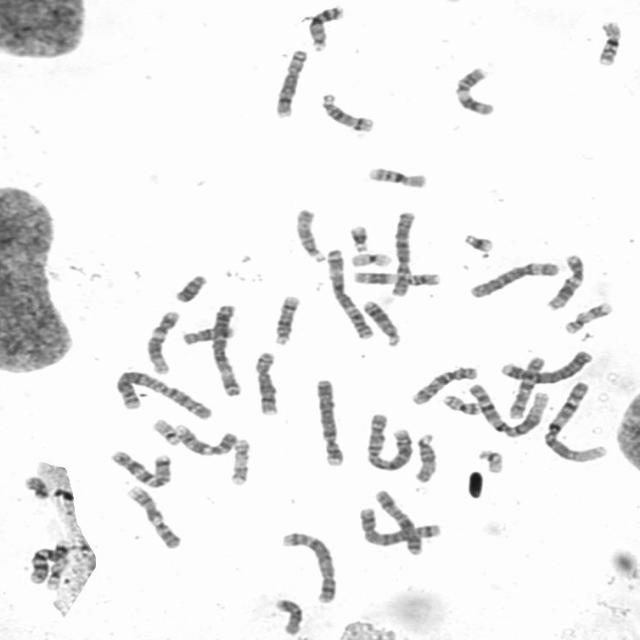A1: (540, 380, 608, 463), (466, 381, 551, 438)
A2: (110, 367, 215, 422), (363, 409, 415, 473)
A3: (324, 245, 376, 341), (207, 302, 244, 398)
B4: (496, 348, 594, 385), (312, 377, 345, 468)
B5: (278, 529, 339, 605), (355, 504, 441, 548)
C10: (407, 363, 479, 407), (505, 354, 547, 419)
C11: (452, 64, 496, 116), (349, 268, 444, 288)
C12: (144, 308, 182, 376), (544, 252, 587, 311)
C6: (466, 258, 561, 300), (387, 208, 416, 299)
C7: (108, 447, 173, 489), (30, 538, 73, 585)
C8: (271, 45, 310, 119), (250, 348, 281, 418)
C9: (124, 484, 182, 550), (172, 422, 238, 458)
D13: (361, 298, 402, 348), (304, 3, 345, 53)
D14: (316, 91, 376, 135), (270, 292, 301, 347)
D15: (292, 205, 327, 265), (411, 430, 439, 484)
E16: (364, 164, 429, 190), (593, 18, 624, 67)
E17: (561, 299, 614, 335), (227, 436, 252, 488)
E18: (272, 596, 304, 636), (179, 324, 236, 346)
F19: (347, 250, 393, 269), (45, 560, 66, 592)
F20: (440, 392, 482, 418), (24, 476, 52, 500)
G21: (459, 230, 496, 254), (345, 223, 372, 253)
G22: (150, 415, 182, 447), (475, 447, 505, 474)
X: (370, 487, 424, 557)
Y: (171, 272, 209, 304)
